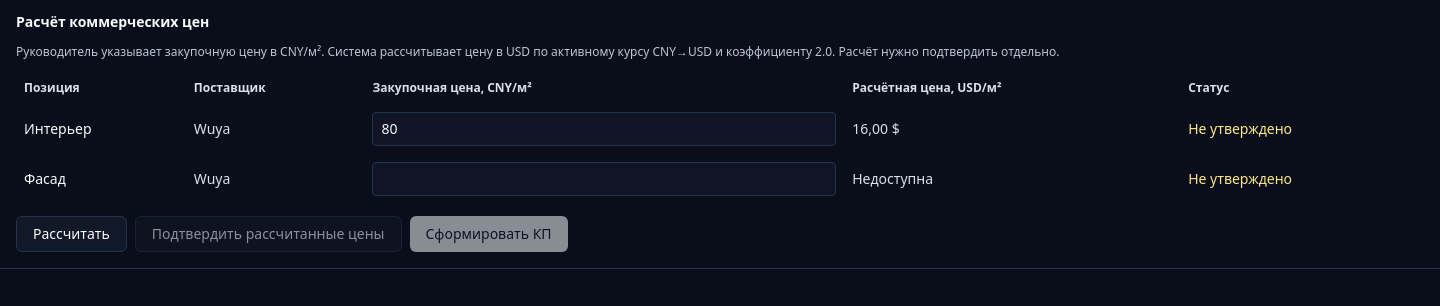
Test: QuoteApprovedPricing › requires a positive CNY purchase price for every item
Click the button "Рассчитать".
click(71, 234)  # box x1=16 y1=216 x2=127 y2=252
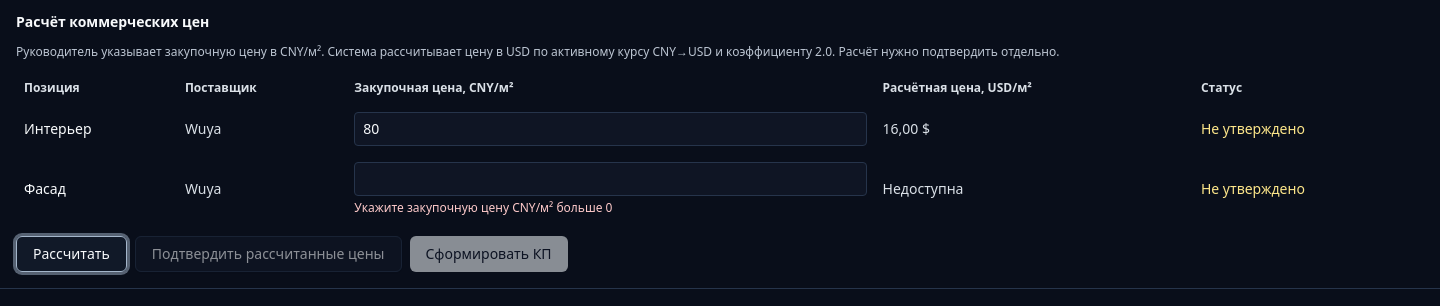
Check: the text "Укажите закупочную цену CNY/м² больше 0" is shown, box x1=354 y1=199 x2=612 y2=216
